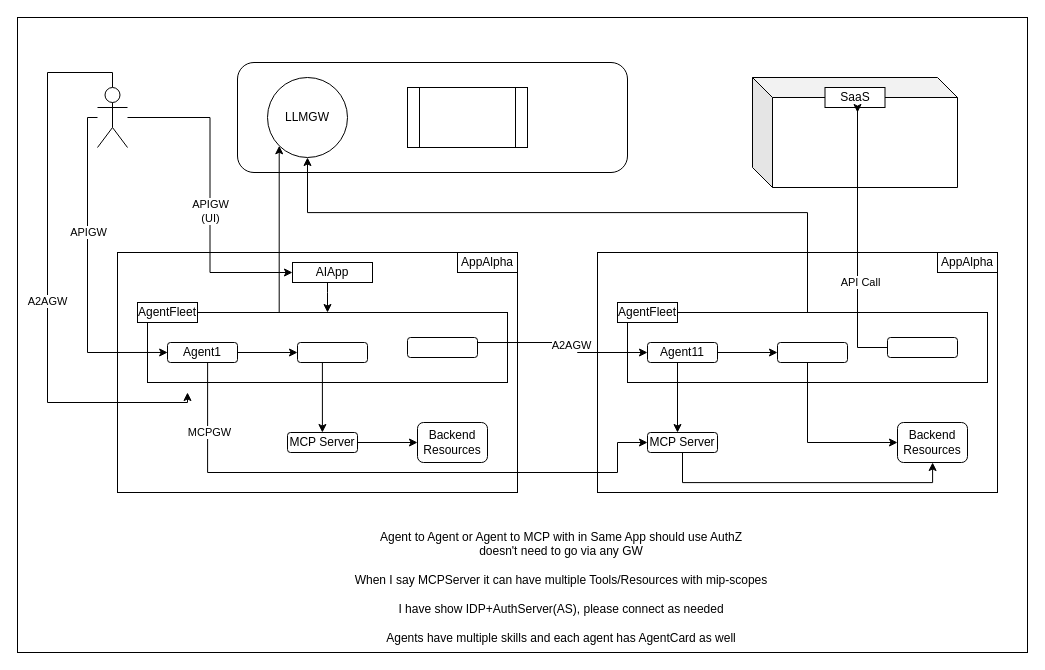
Image size: 1045x670. Some labels were removed from this diagram. The box of each missing label's shape, as (x1, y1, x2, y2) in pixels:
Actor: (96, 86, 128, 148)
Agent2: (296, 342, 368, 362)
Agent21: (776, 342, 848, 362)
Agent3: (406, 336, 478, 358)
Agent31: (886, 336, 958, 358)
IDP+AuthServer: (406, 86, 528, 148)
